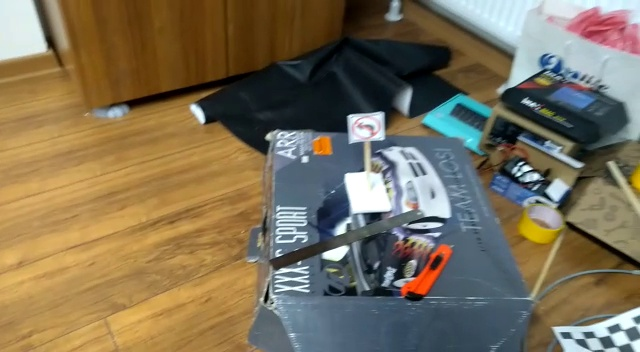sola_donulmez: (349, 112, 383, 141)
